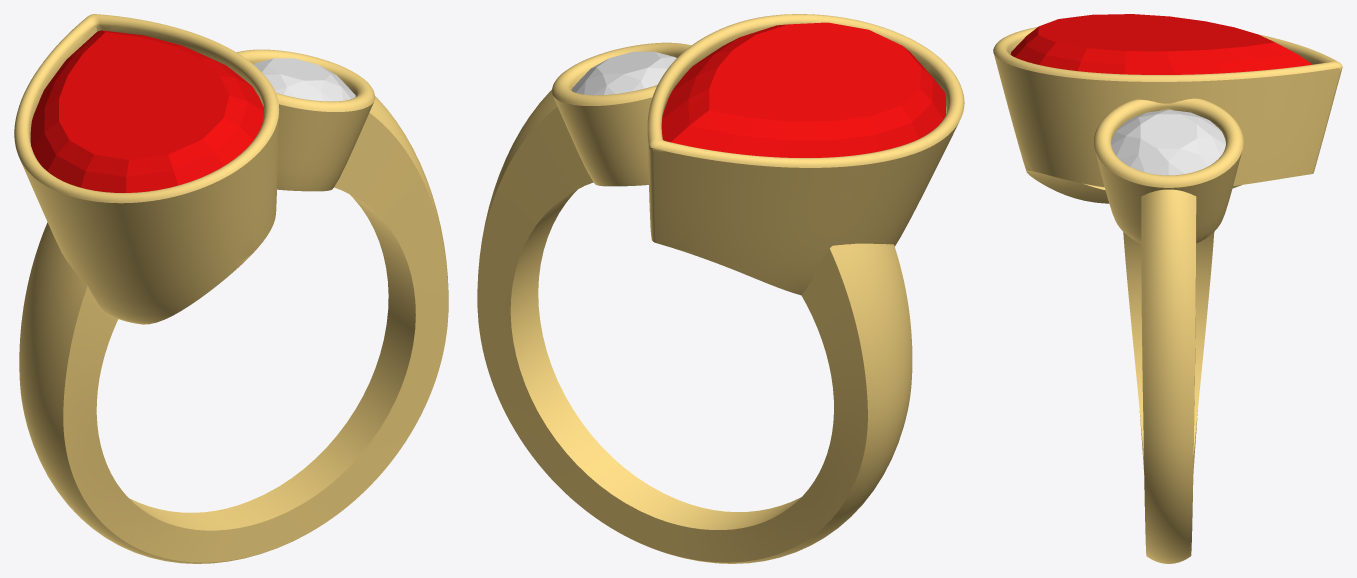
File: Amy Jesiolowski Mixed Taper.glb
3 renders of one model, left to right at view 1: azimuth 30°, elevation 25°; view 2: azimuth 150°, elevation 25°; view 3: azimuth 270°, elevation 25°, orthographic. The views are drawn at different scales.
Visible parts, largest first — view 1: Amy YG mixed taper, Amy mixed pear garnet for 3d model, Amy mixed dia for 3d model; view 2: Amy YG mixed taper, Amy mixed pear garnet for 3d model, Amy mixed dia for 3d model; view 3: Amy YG mixed taper, Amy mixed pear garnet for 3d model, Amy mixed dia for 3d model.
Boxes of the visible parts, x1,y1,x2,y2 form: Amy YG mixed taper: (14,14,448,563); Amy mixed pear garnet for 3d model: (30,30,263,192); Amy mixed dia for 3d model: (253,58,355,101); Amy YG mixed taper: (477,14,964,563); Amy mixed pear garnet for 3d model: (661,22,945,157); Amy mixed dia for 3d model: (571,51,676,95); Amy YG mixed taper: (993,27,1342,563); Amy mixed pear garnet for 3d model: (1010,14,1312,74); Amy mixed dia for 3d model: (1111,109,1225,175).
Bounding box in the file's own units: 21.06 × 23.81 × 15.94.
